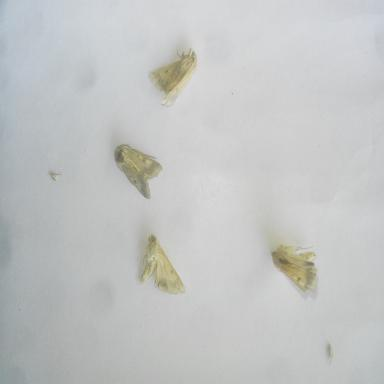abw: (146, 44, 201, 111), (112, 139, 166, 204), (268, 238, 322, 302), (138, 230, 187, 298)
